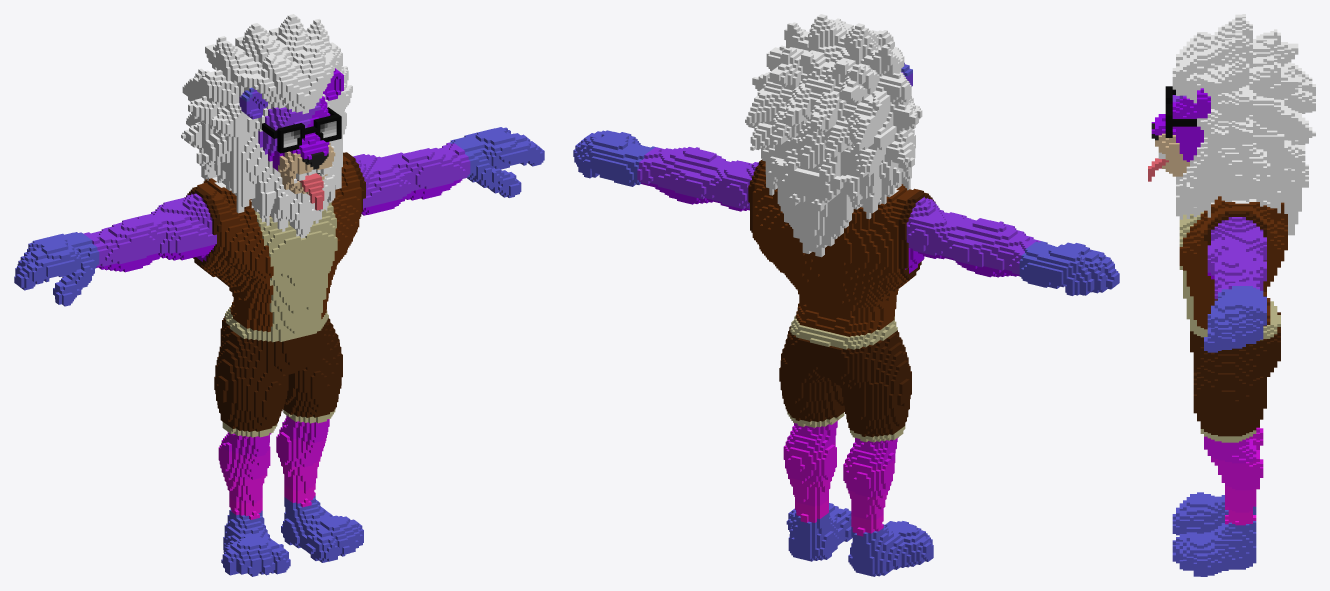
Rendered from 776-2LVD79Hz.fbx.
The picture shows the model from 3 angles, left to right: view 1: azimuth 30°, elevation 25°; view 2: azimuth 150°, elevation 25°; view 3: azimuth 270°, elevation 25°; orthographic projection. The views are drawn at different scales.
Visible parts, largest first — view 1: tongue_out; view 2: tongue_out; view 3: tongue_out.
Boxes of the visible parts, x1,y1,x2,y2 form: tongue_out: [14, 14, 544, 576]; tongue_out: [573, 14, 1119, 576]; tongue_out: [1148, 14, 1315, 576].
Bounding box in the file's own units: 17.2 × 16.5 × 4.8.
5 materials, 5 textured.
